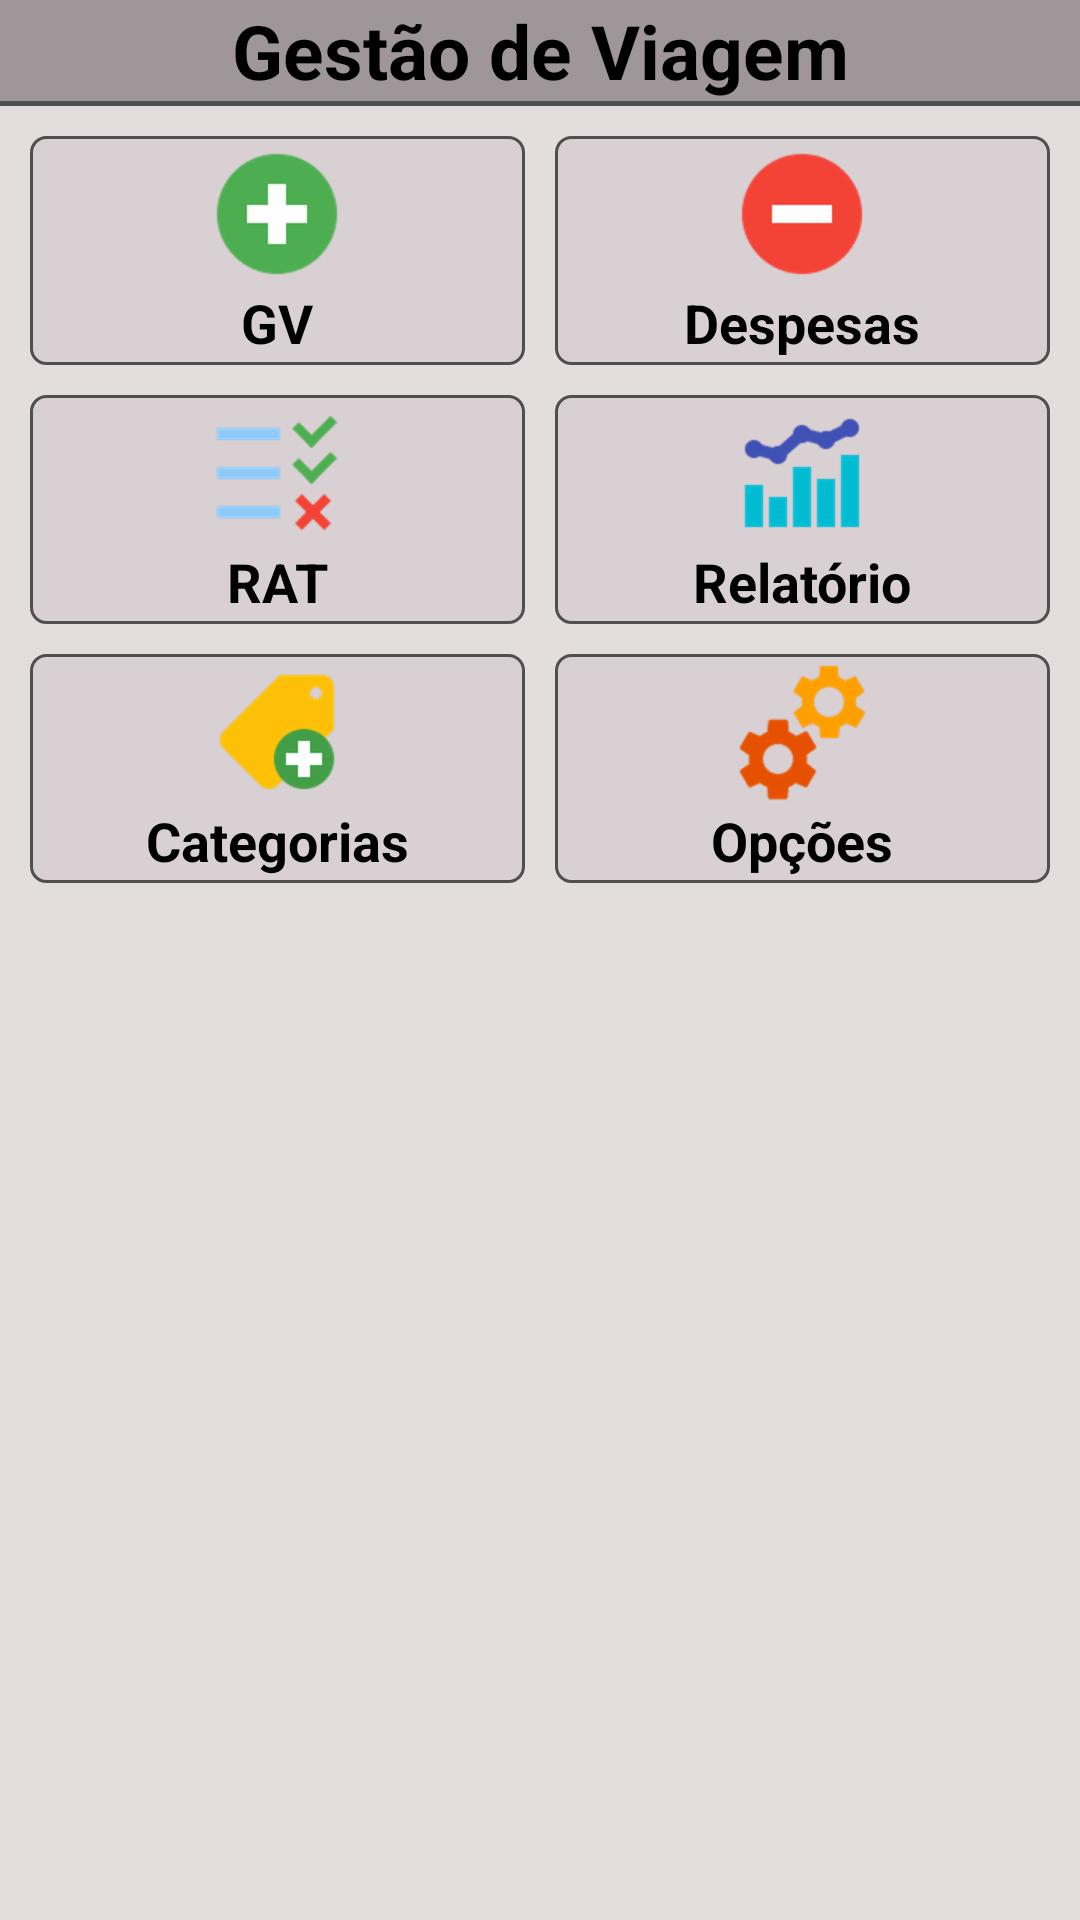

Named icons in this screenshot (1080px×1920px) and their bounding boxes, rect(x1, y1, x2, y2):
list: rect(217, 416, 337, 530)
minus: rect(741, 153, 863, 275)
plus: rect(217, 154, 337, 275)
